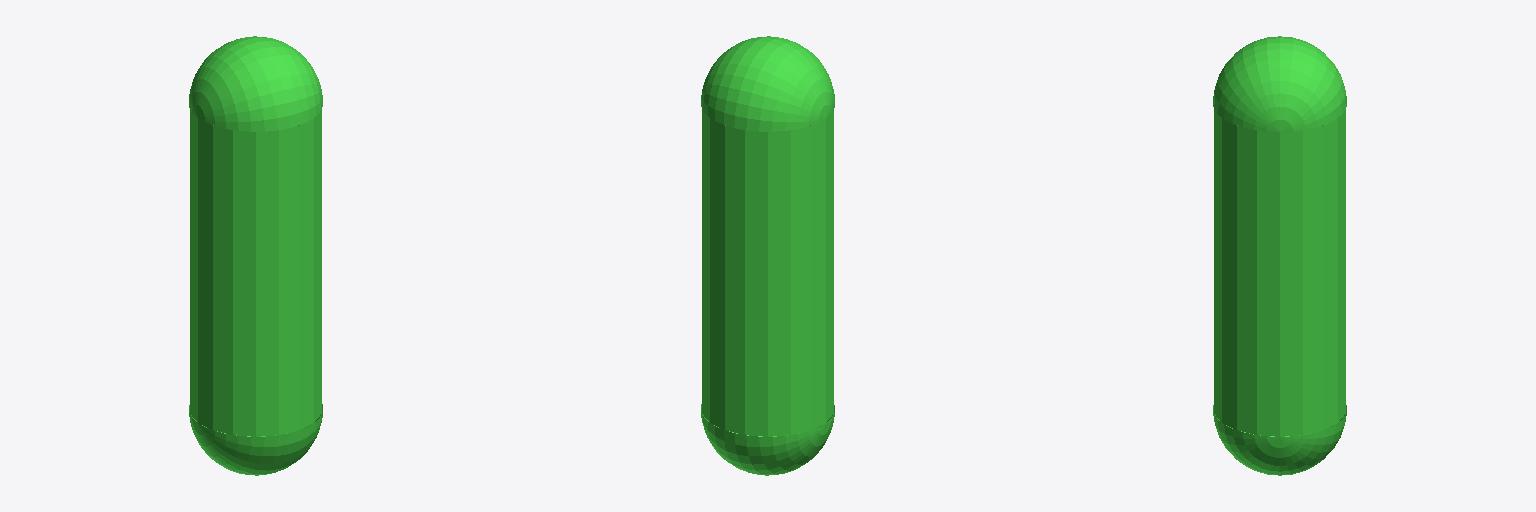
The model's file is bullet.obj.
3 renders of one model, left to right at view 1: azimuth 30°, elevation 25°; view 2: azimuth 150°, elevation 25°; view 3: azimuth 270°, elevation 25°, orthographic.
Visible parts, largest first — view 1: Cylinder001; view 2: Cylinder001; view 3: Cylinder001.
Part boxes in pixels (x1,y1,x2,y2): Cylinder001: (189,36,322,475); Cylinder001: (701,36,834,475); Cylinder001: (1213,36,1346,475).
Bounding box in the file's own units: 20 × 70 × 20.